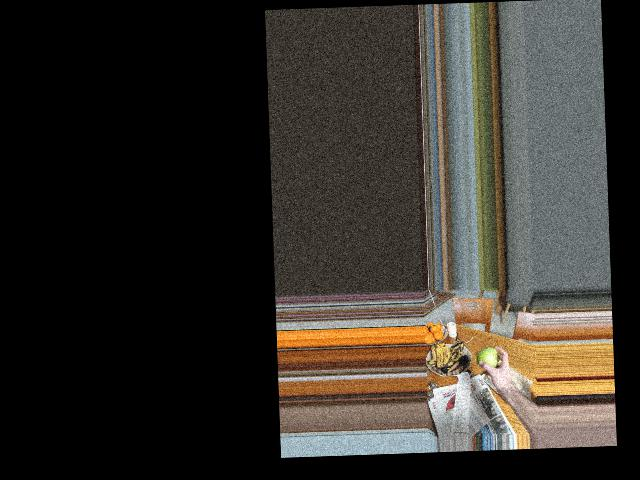apple: (477, 346, 498, 372)
